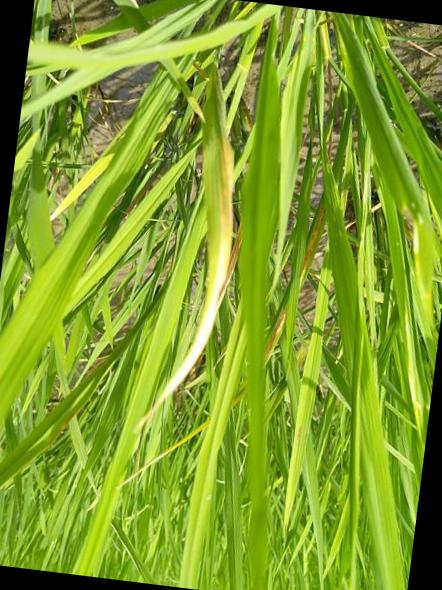Leaf Blight: (134, 135, 239, 431), (118, 420, 211, 486), (300, 195, 327, 287), (265, 298, 290, 362), (234, 388, 247, 406)
